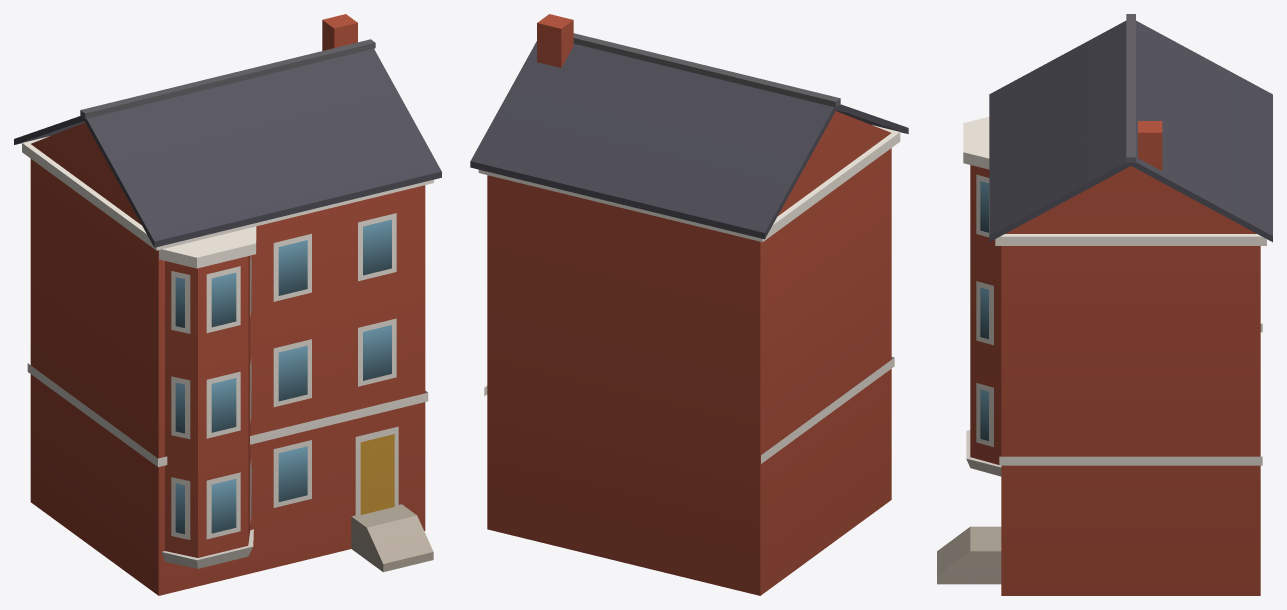
Rendered from lane_w6_far.glb.
The picture shows the model from 3 angles, left to right: view 1: azimuth 30°, elevation 25°; view 2: azimuth 150°, elevation 25°; view 3: azimuth 270°, elevation 25°; orthographic projection. The views are drawn at different scales.
Parts seen in each view (by area): view 1: lane_w6_far; view 2: lane_w6_far; view 3: lane_w6_far.
Boxes of the visible parts, x1,y1,x2,y2 form: lane_w6_far: (14,14,441,595); lane_w6_far: (470,14,908,595); lane_w6_far: (937,14,1272,595).
Size of the model in its own units: 9.8 by 14.79 by 9.71.
Materials: 1 (1 with a texture image).
